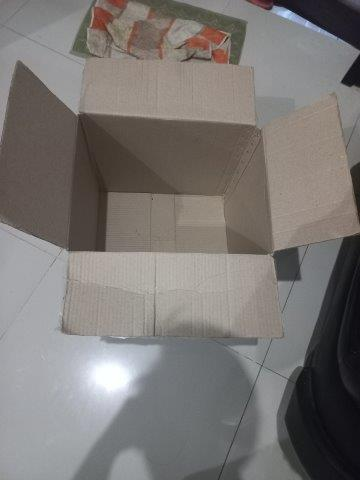kardus: (2, 58, 360, 338)
